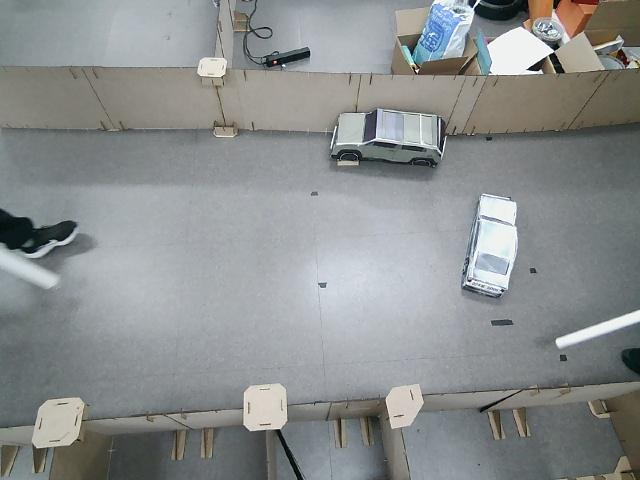car: (331, 108, 447, 167), (461, 192, 519, 298)
